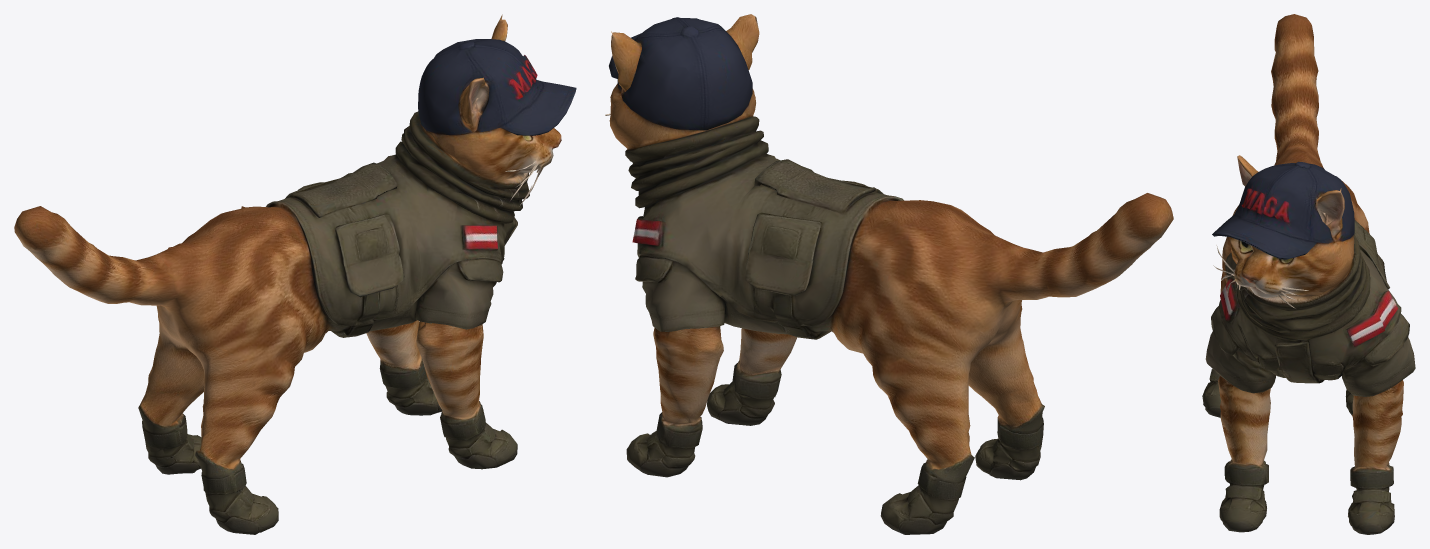
File: PAWPOST.glb
The picture shows the model from 3 angles, left to right: view 1: azimuth 30°, elevation 25°; view 2: azimuth 150°, elevation 25°; view 3: azimuth 270°, elevation 25°; orthographic projection. The views are drawn at different scales.
Visible parts, largest first — view 1: tripo_node_46e3b1b7-c34e-456a-b009-28a5e2675593; view 2: tripo_node_46e3b1b7-c34e-456a-b009-28a5e2675593; view 3: tripo_node_46e3b1b7-c34e-456a-b009-28a5e2675593.
Part boxes in pixels (x1,y1,x2,y2): tripo_node_46e3b1b7-c34e-456a-b009-28a5e2675593: (14,14,576,534); tripo_node_46e3b1b7-c34e-456a-b009-28a5e2675593: (605,14,1173,534); tripo_node_46e3b1b7-c34e-456a-b009-28a5e2675593: (1202,14,1415,534).
Bounding box in the file's own units: 1.44 × 1 × 0.5238.
Materials: 1 (1 with a texture image).
